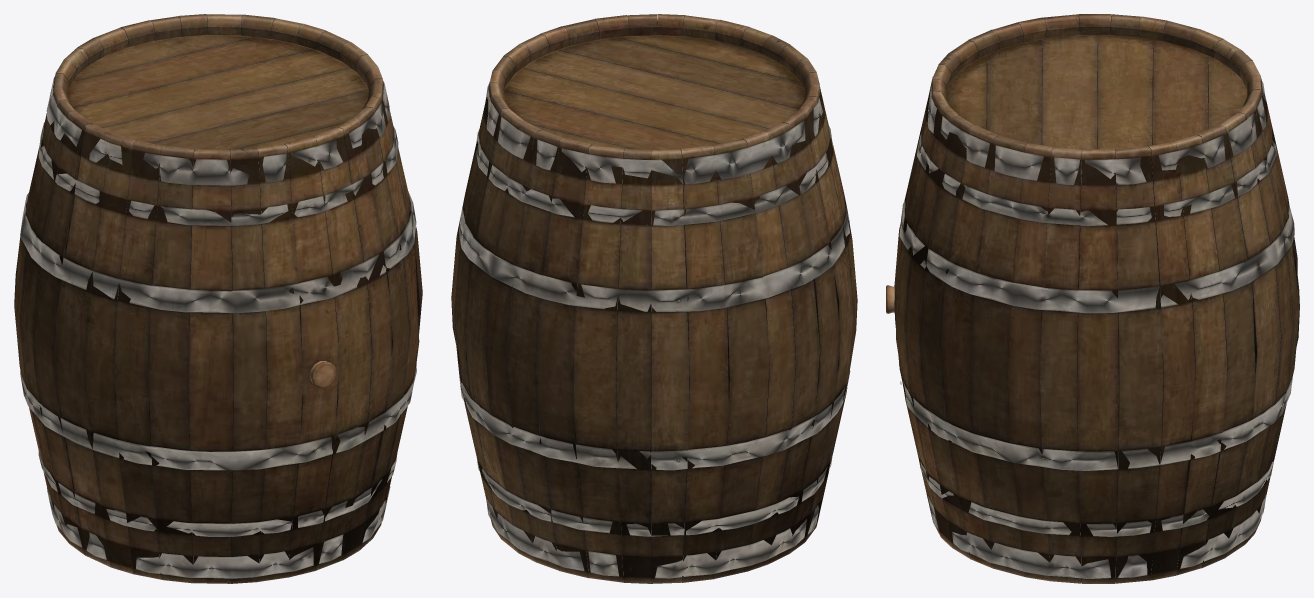
Rendered from wine_barrel_01.glb.
3 renders of one model, left to right at view 1: azimuth 30°, elevation 25°; view 2: azimuth 150°, elevation 25°; view 3: azimuth 270°, elevation 25°, orthographic.
Visible parts, largest first — view 1: wine_barrel_01_Lid; view 2: wine_barrel_01_Lid; view 3: wine_barrel_01_Lid.
Part boxes in pixels (left/top/right/bottom): wine_barrel_01_Lid: left=14, top=14, right=422, bottom=583; wine_barrel_01_Lid: left=451, top=14, right=857, bottom=583; wine_barrel_01_Lid: left=886, top=14, right=1299, bottom=583.
Bounding box in the file's own units: 0.7419 × 0.8695 × 0.7561.
Materials: 1 (1 with a texture image).
